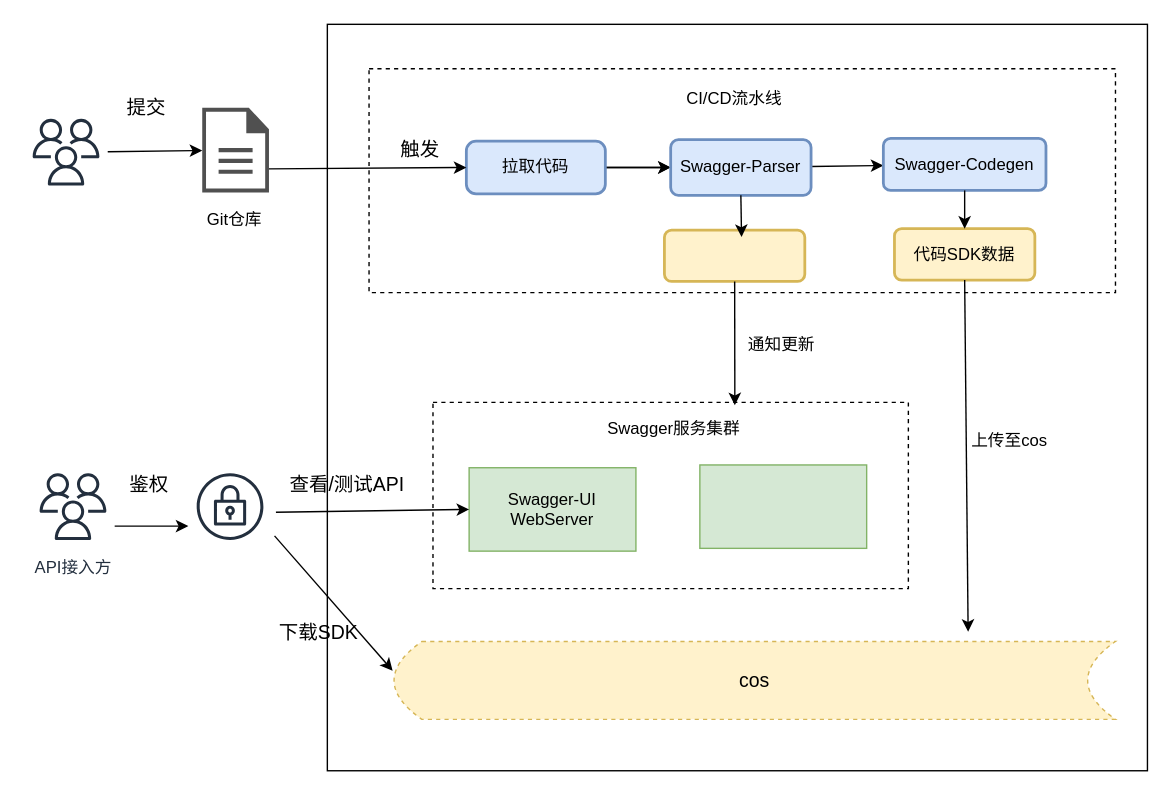
This 1172x795 diagram has some shape labels left out. The centre of each missing label's shape, as x and y in pixels:
"API开发者" goes at (65,151).
"IOA 网关" goes at (229,506).
"Swagger-Mock Server" goes at (782,506).
"文档DB数据" goes at (734,255).
